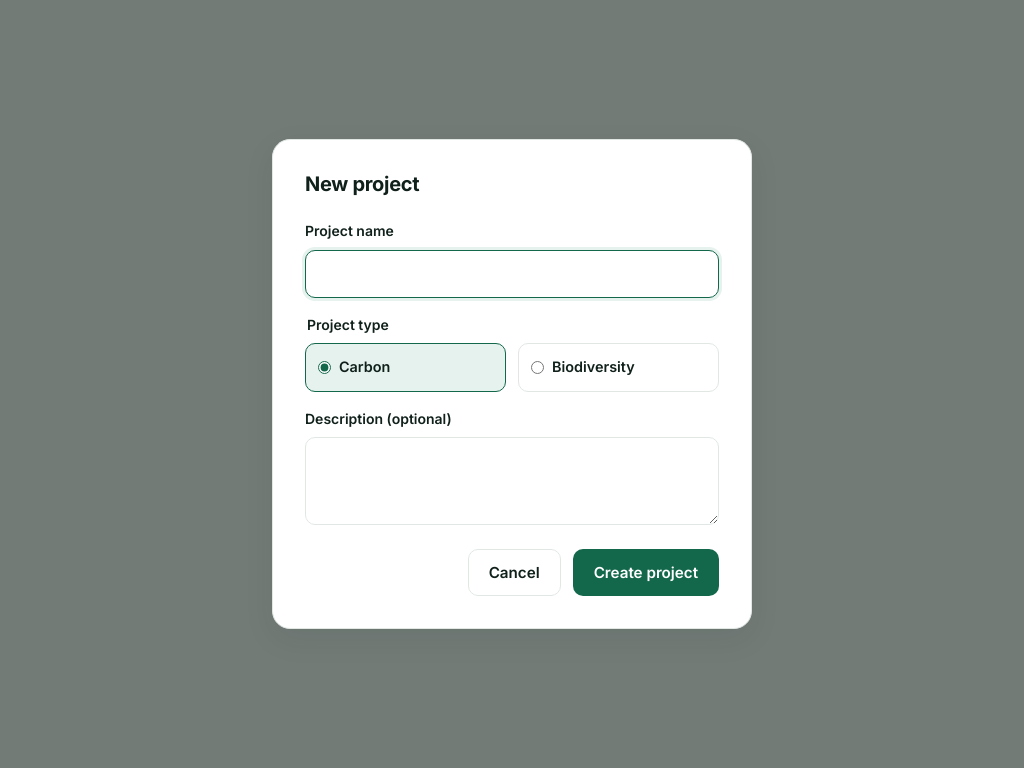
Test: CreateProjectDialog › asks for a name before saving
Click the button "Create project".
click(646, 572)  # box [573,549,719,596]
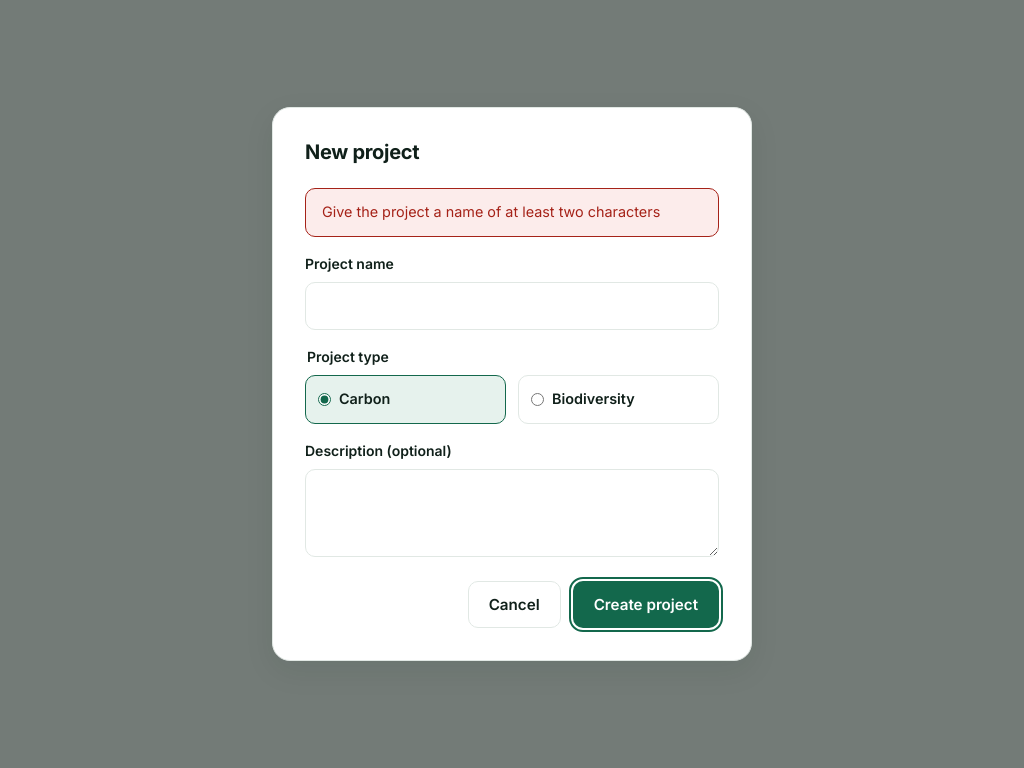
Expected: the message shows "at least two characters", [322,203,660,220]
